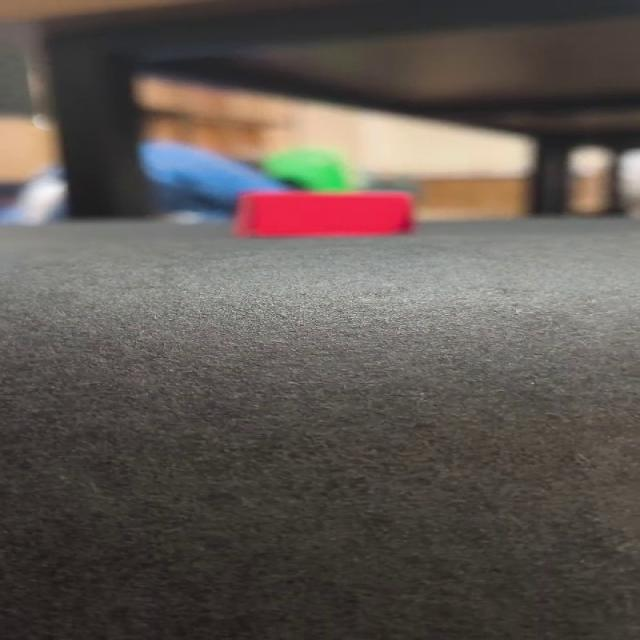red block: (232, 189, 415, 238)
